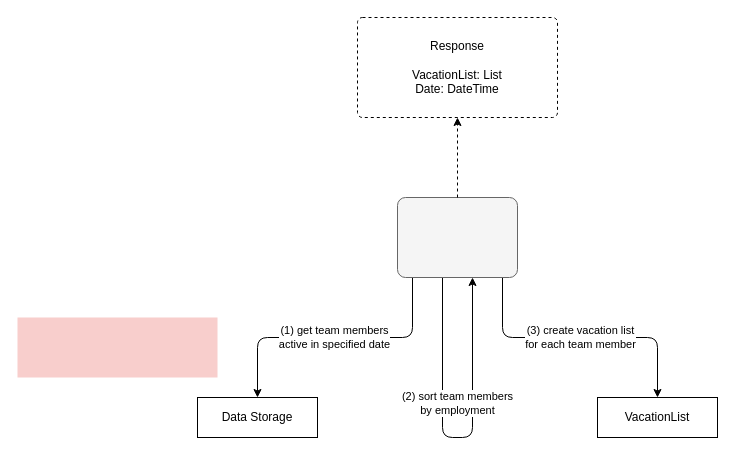
Some shapes in this 735 by 463 pixel diagram are drawn without their labels. Each missing label, with the centre of its shape:
"(1) DataAccessException" belongs at (x=117, y=347).
"Present Vacations Use Case" belongs at (x=457, y=237).
